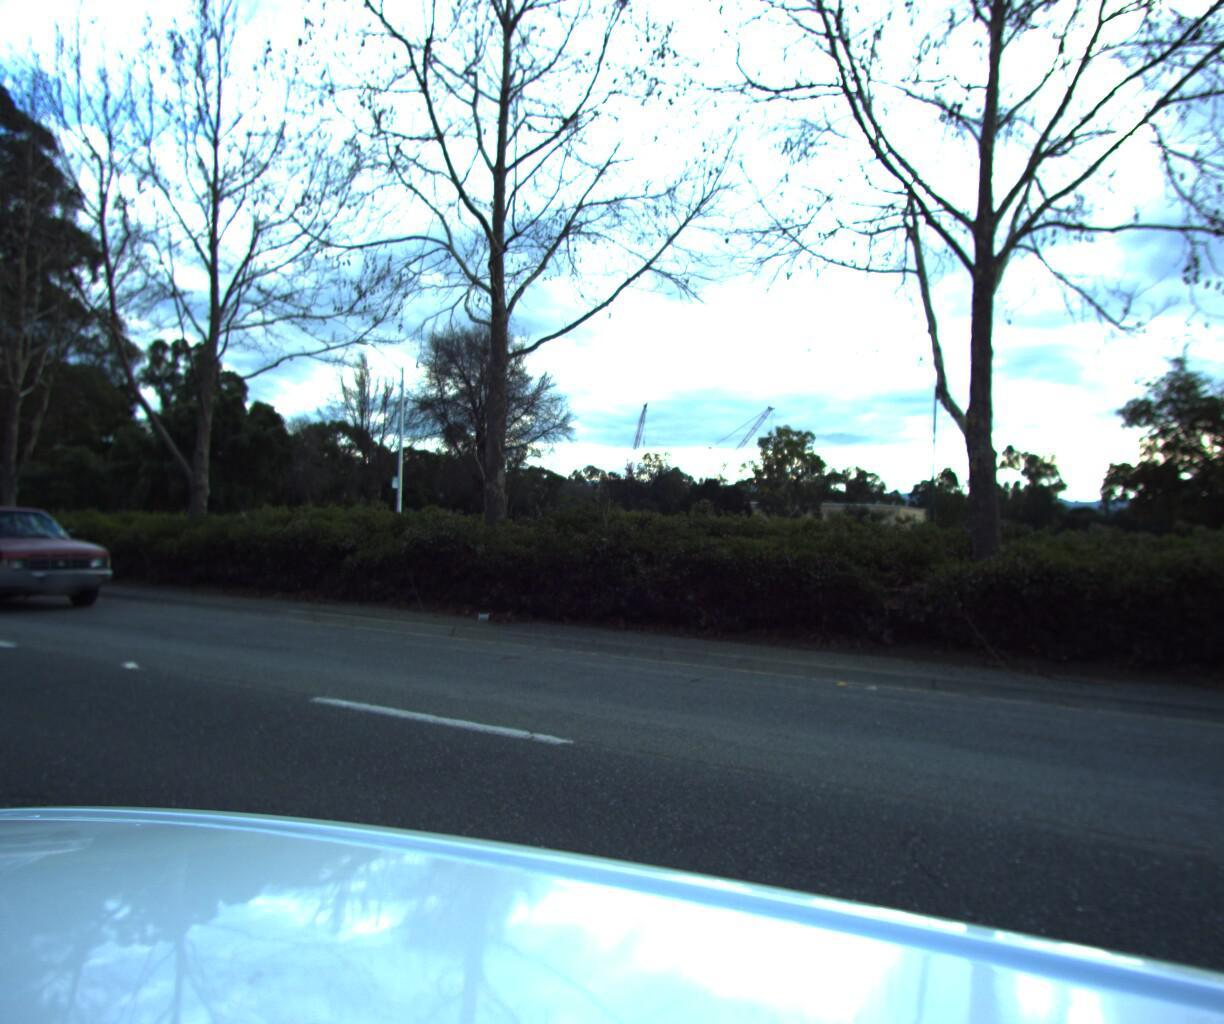car: (0, 494, 134, 615)
